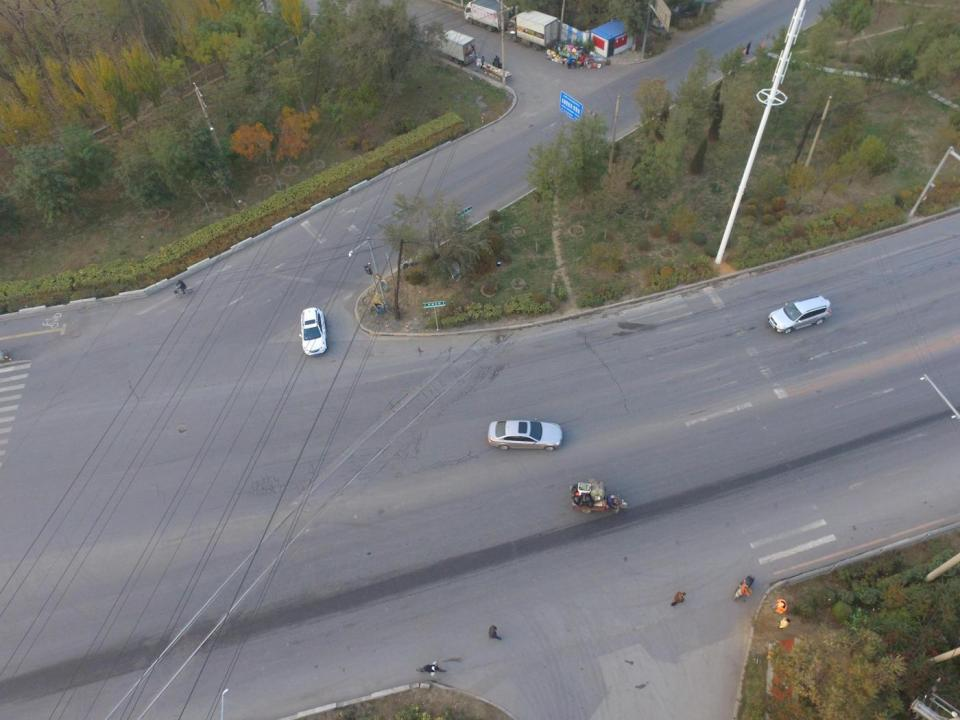car: (488, 418, 562, 451)
truck: (507, 9, 559, 51), (432, 30, 477, 65), (463, 0, 509, 32)
van: (768, 295, 831, 333), (298, 308, 327, 356)
